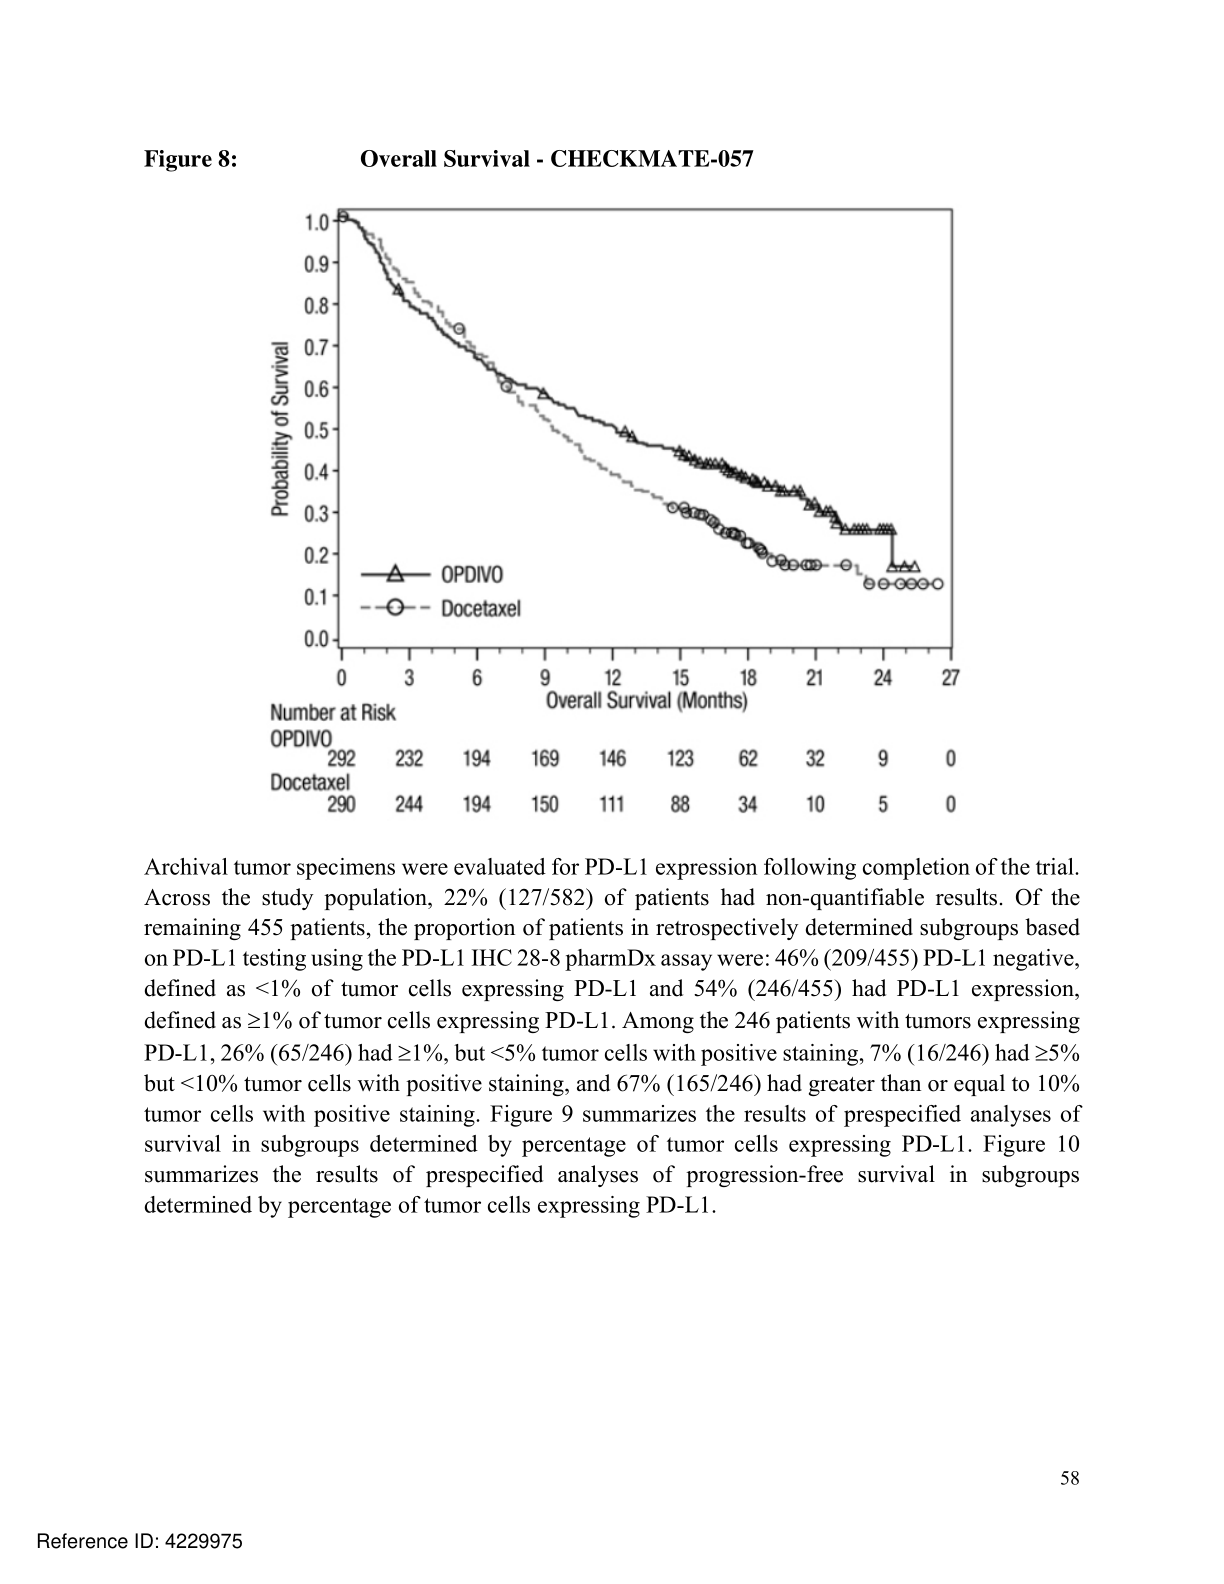nolines: (267, 726, 957, 814)
